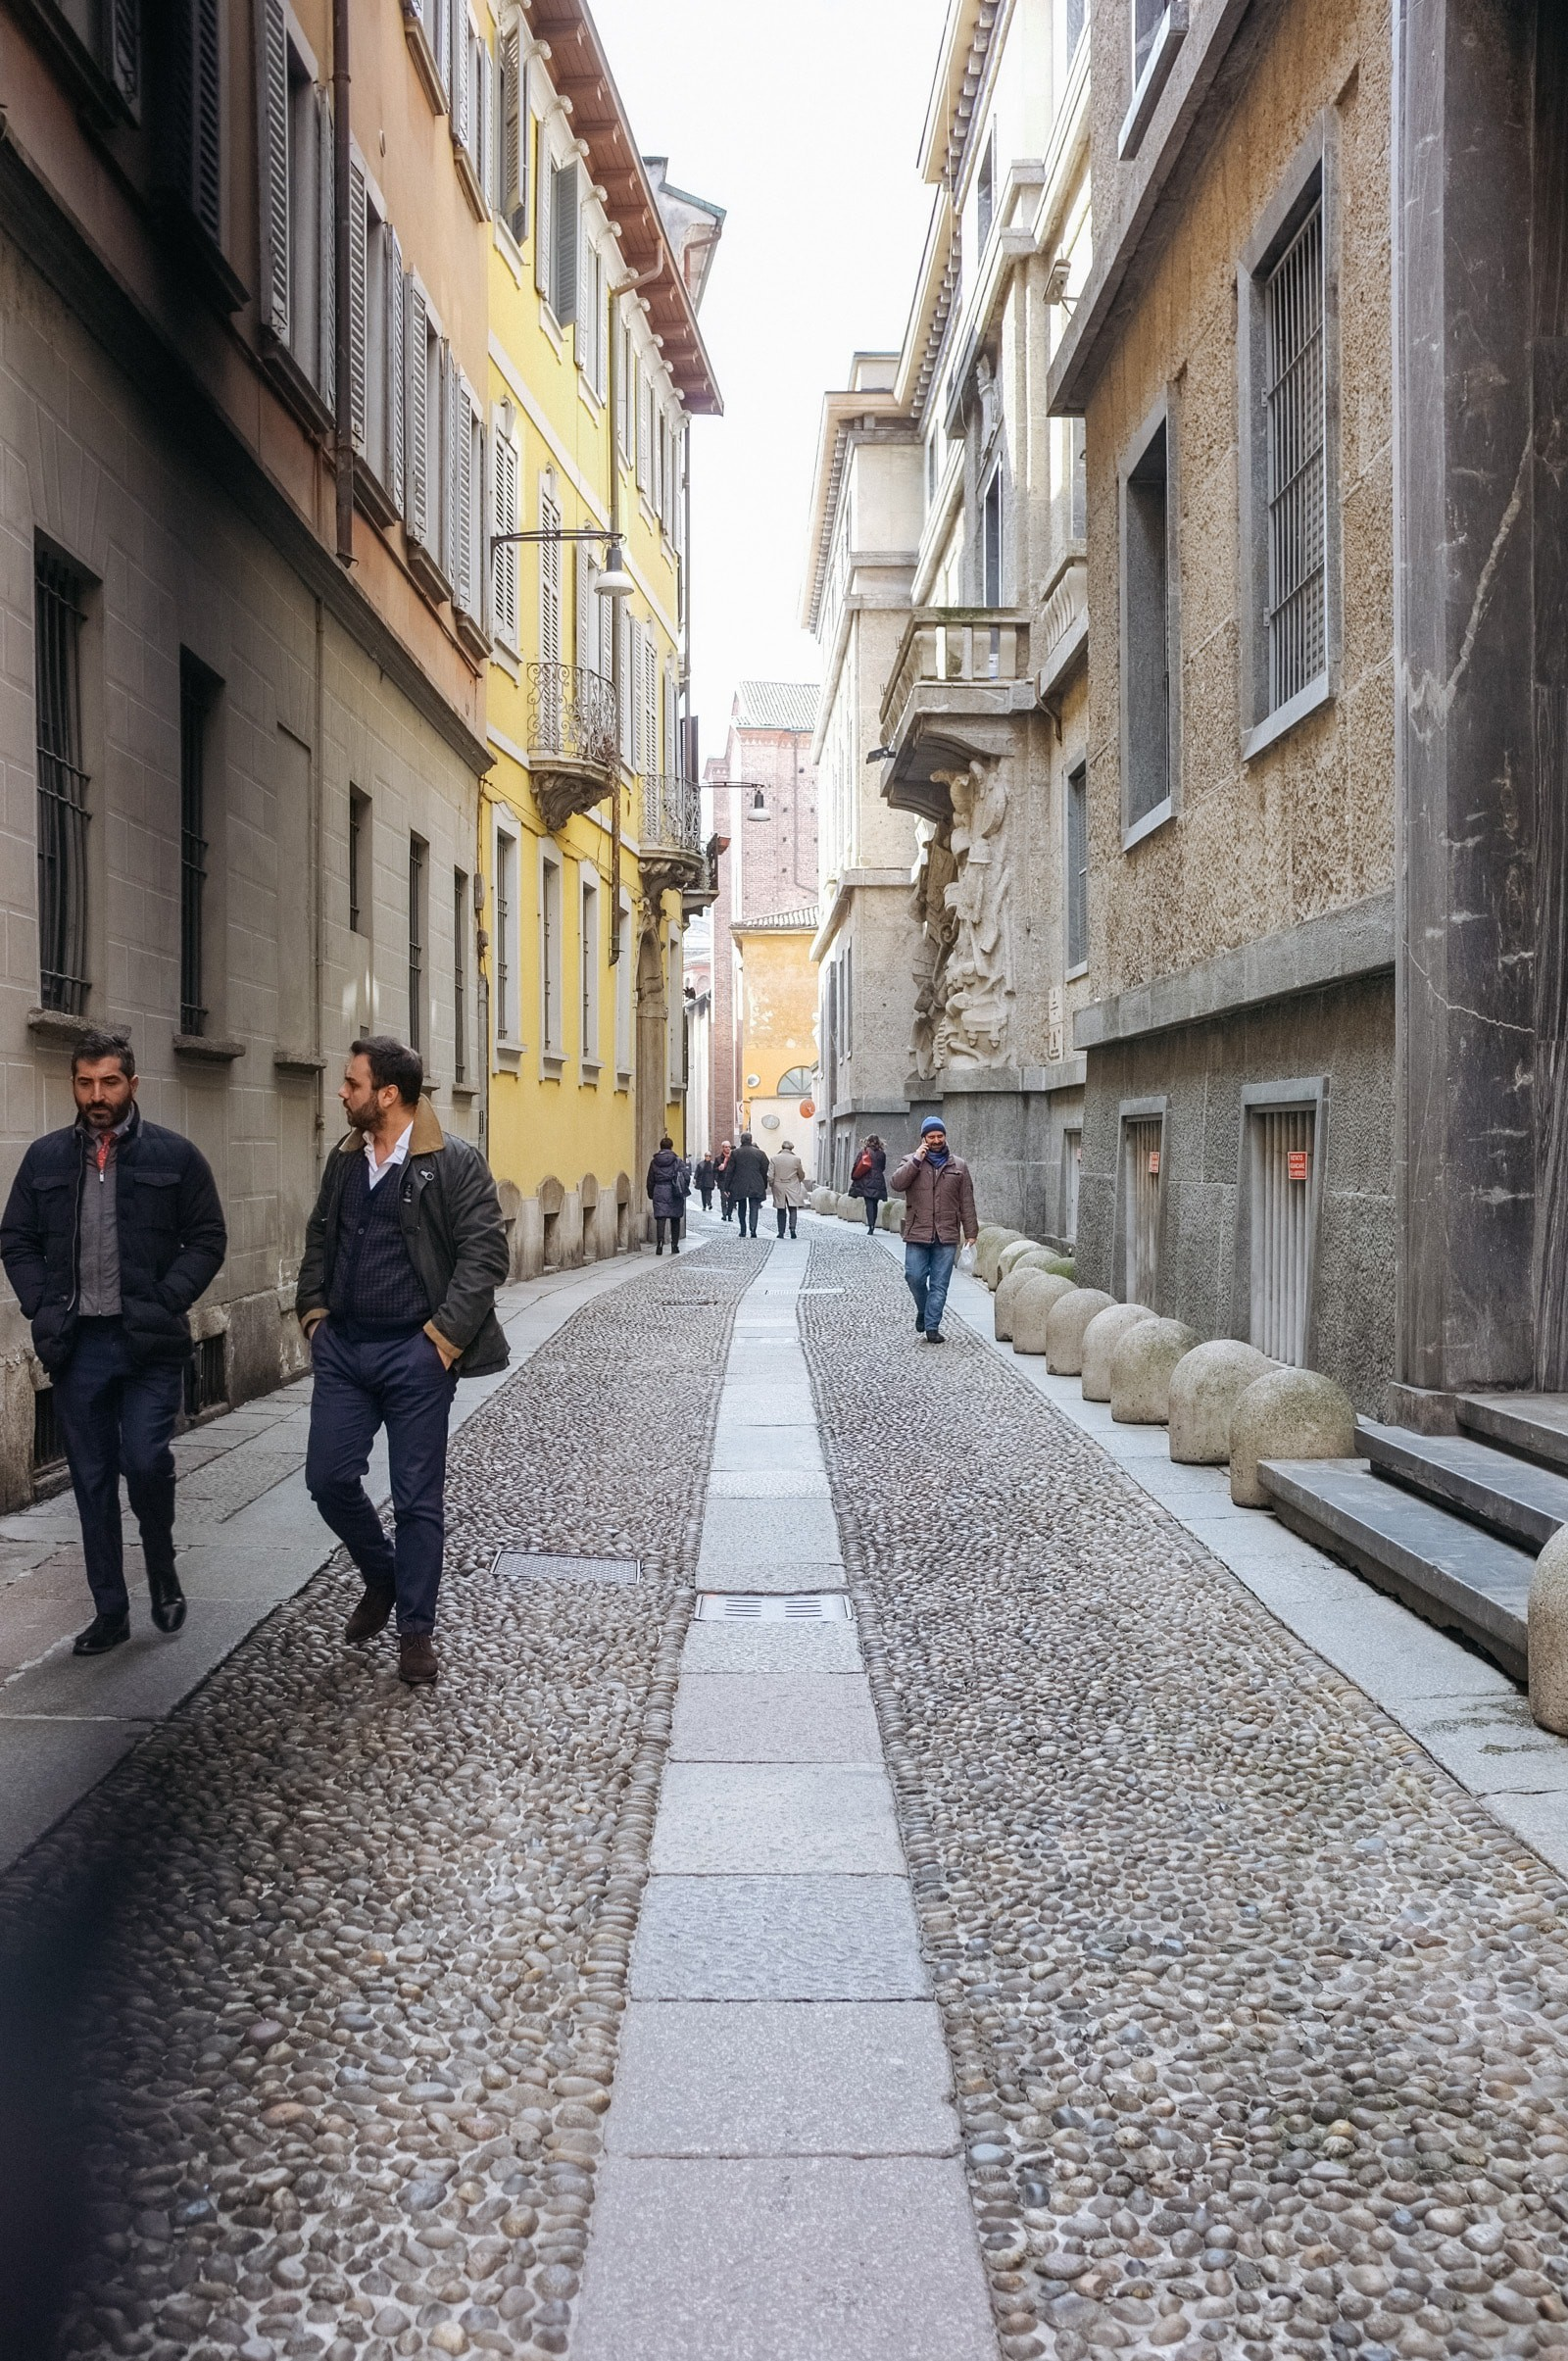person: (252, 1008, 546, 1700), (10, 1011, 246, 1663), (870, 1112, 997, 1342), (723, 1128, 809, 1238), (641, 1137, 693, 1251)
